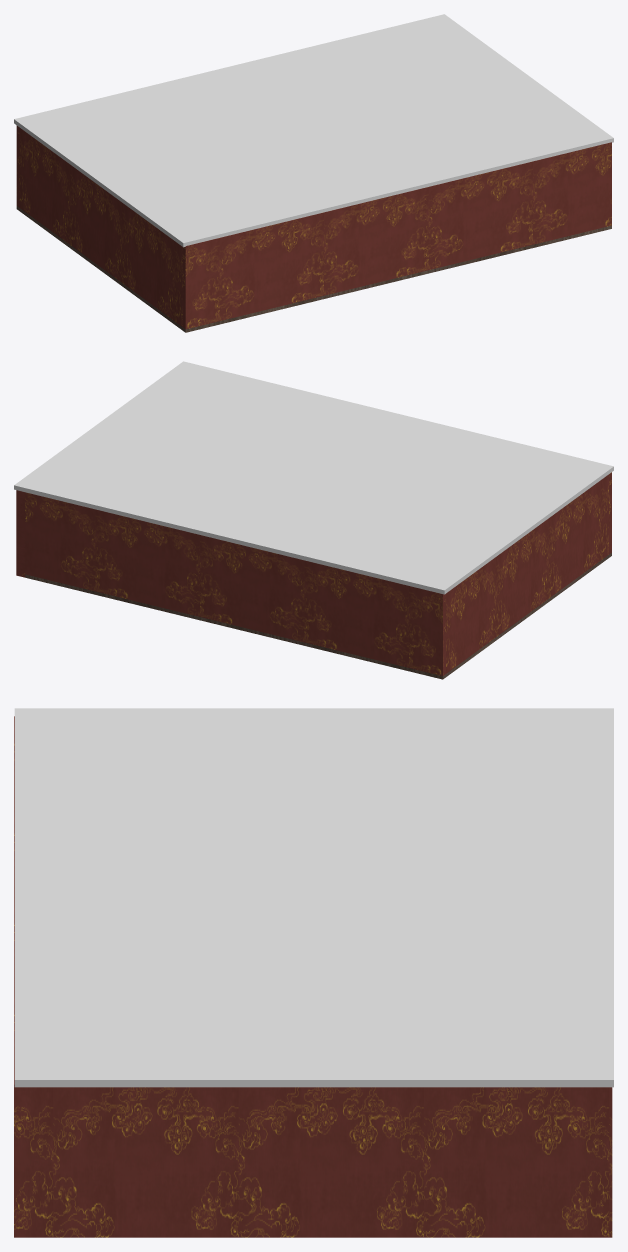
Rendered from galleryInRedTexture.glb.
3 renders of one model, top to bottom at view 1: azimuth 30°, elevation 25°; view 2: azimuth 150°, elevation 25°; view 3: azimuth 270°, elevation 25°, orthographic. The views are drawn at different scales.
Parts seen in each view (by area): view 1: ceiling, walls; view 2: ceiling, walls; view 3: ceiling, walls.
Part boxes in pixels (x1,y1,x2,y2): ceiling: (14, 14, 613, 247); walls: (16, 125, 611, 332); ceiling: (14, 361, 613, 594); walls: (16, 472, 611, 679); ceiling: (14, 708, 613, 1087); walls: (14, 716, 612, 1237).
Size of the model in its own units: 29.39 by 5.87 by 20.05.
Materials: 4 (3 with a texture image).
